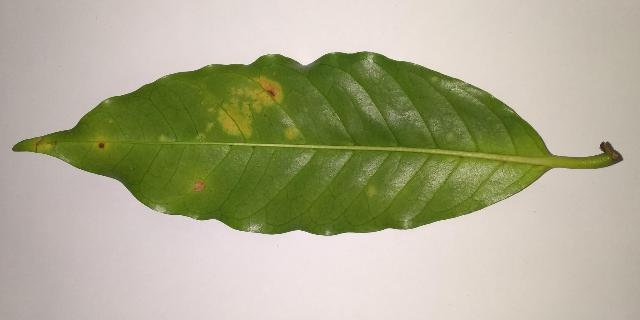miner: (218, 76, 283, 137), (92, 135, 111, 150), (285, 126, 299, 139), (192, 179, 206, 191), (34, 142, 52, 151), (206, 122, 213, 132), (198, 134, 202, 138)
